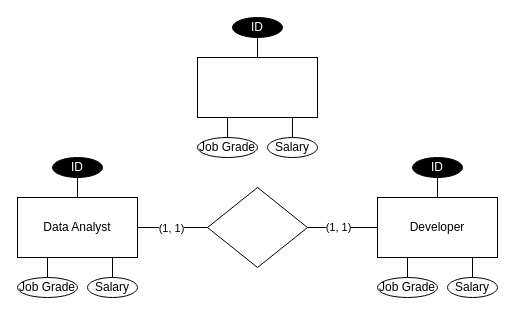
The diagram is 515 pixels wide and 315 high, and some of its shapes have lost their labels. The shapes that lost their labels are listed below. From the top down, each one's box as (x1, y1, x2, y2) in pixels, then its label:
(196, 56, 318, 118): Tech Staff
(206, 186, 308, 268): Tech Staff Data
